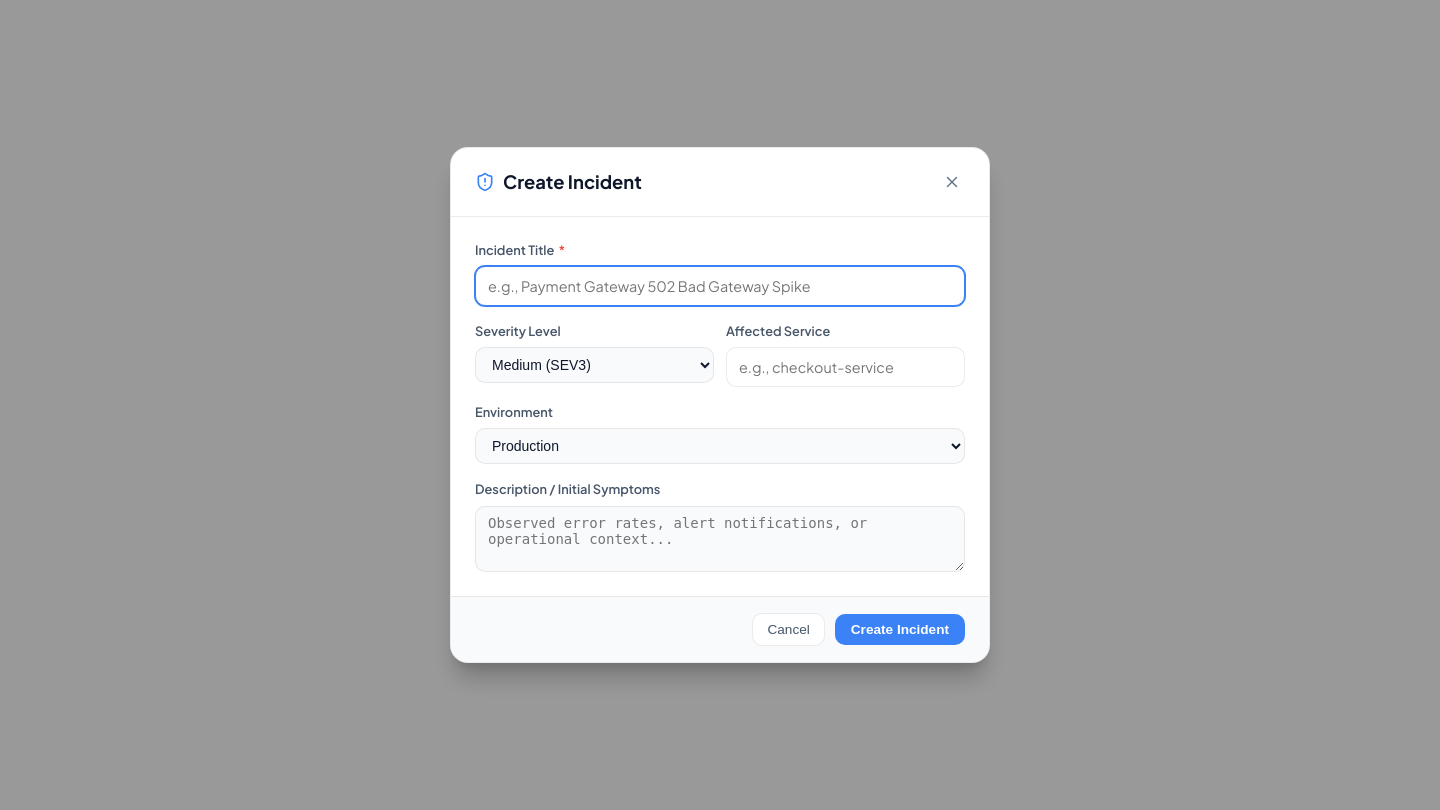
it: TracePilot Stage A: Product Identity & Incident Architecture › Incident Creation Modal › validates required title field and blocks submission if empty
Step 1. Click the button with test id "submit-incident-btn" → (900, 629), box x1=835 y1=614 x2=965 y2=645
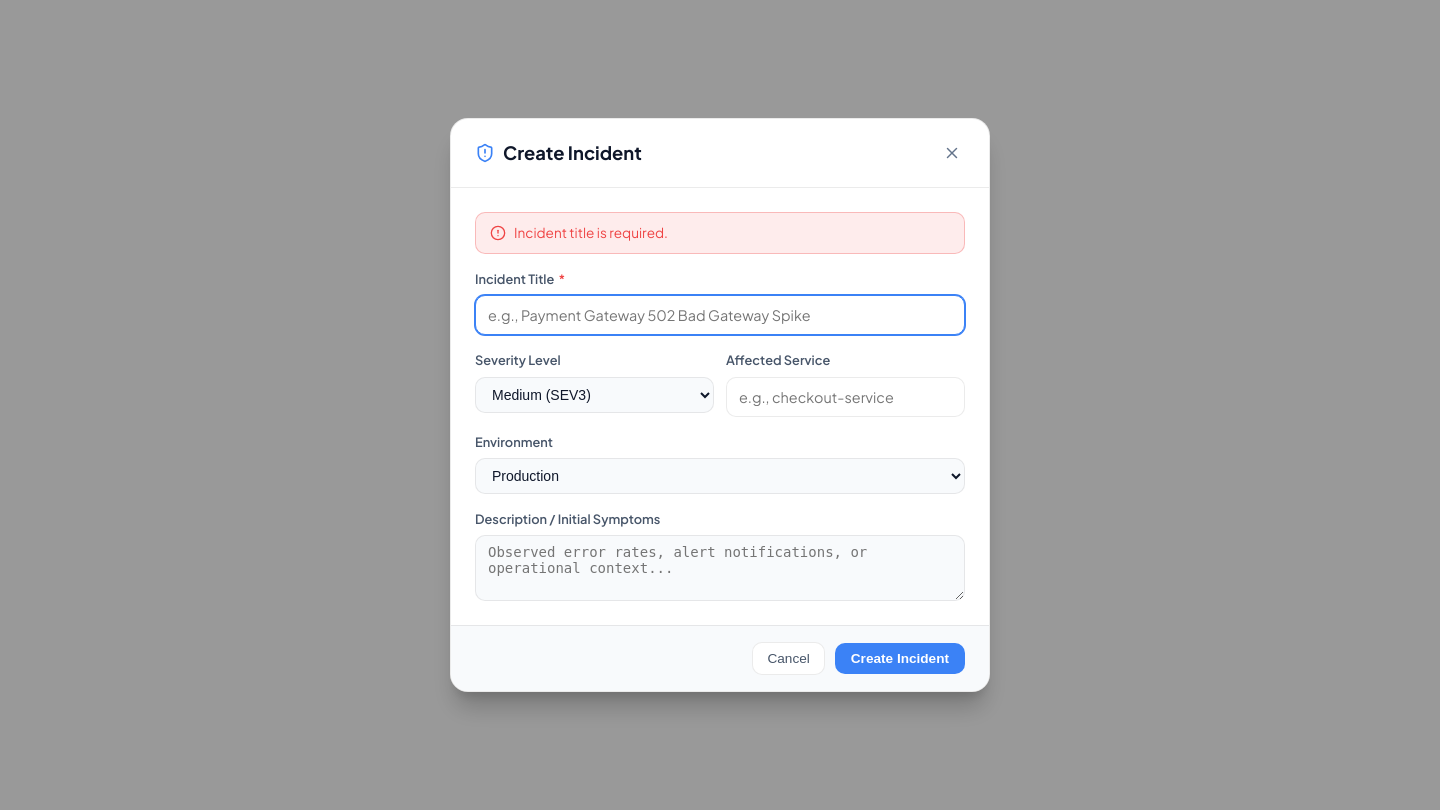
expect the element with test id "creation-error-banner" is shown: met, box x1=475 y1=212 x2=965 y2=254
expect the element with test id "creation-error-banner" reads "Incident title is required.": met, box x1=514 y1=224 x2=668 y2=241
